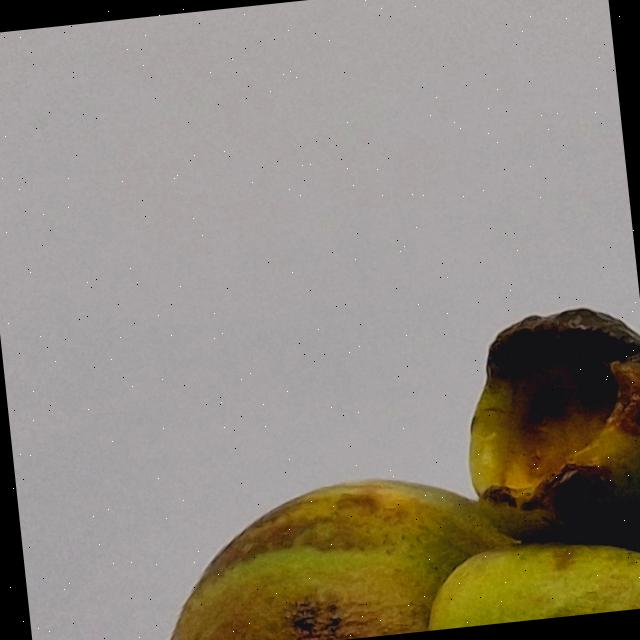mangosteen: (0, 241, 640, 640)
